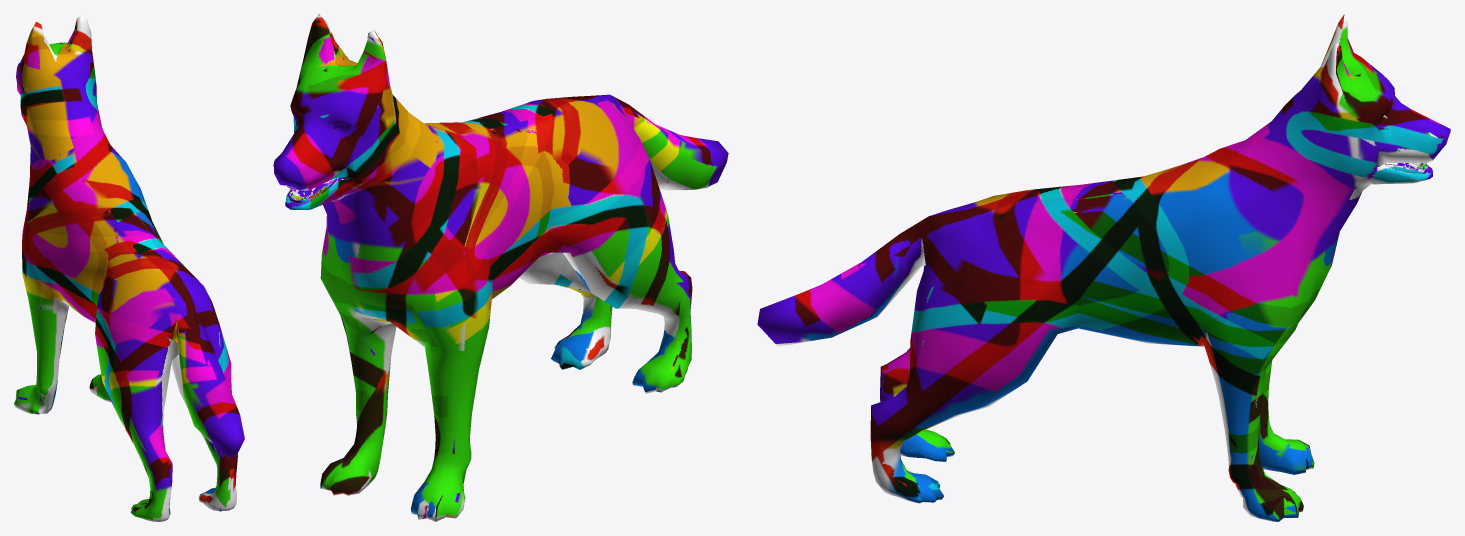
File: asset.glb
3 views of the same model, side by side, from view 1: azimuth 30°, elevation 25°; view 2: azimuth 150°, elevation 25°; view 3: azimuth 270°, elevation 25° (orthographic). The views are drawn at different scales.
Parts seen in each view (by area): view 1: polySurface2; view 2: polySurface2; view 3: polySurface2.
Part boxes in pixels (x1,y1,x2,y2): polySurface2: (14,14,244,521); polySurface2: (273,14,728,521); polySurface2: (757,14,1450,521).
Bounding box in the file's own units: 557 × 1495 × 1982.
1 material, 1 textured.
